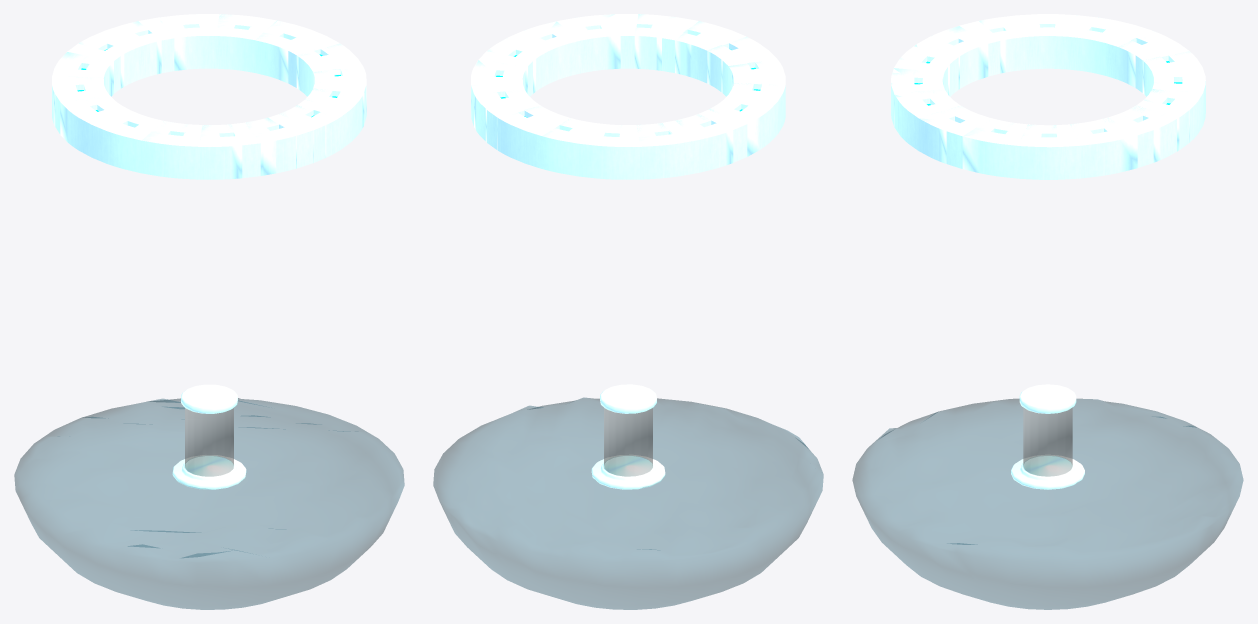
Rendered from rings container.glb.
The picture shows the model from 3 angles, left to right: view 1: azimuth 30°, elevation 25°; view 2: azimuth 150°, elevation 25°; view 3: azimuth 270°, elevation 25°; orthographic projection.
Visible parts, largest first — view 1: Circle, ring 3.001, ring 3, ring 3.002, chamber; view 2: Circle, ring 3.001, ring 3, ring 3.002, chamber; view 3: Circle, ring 3.002, ring 3, ring 3.001, chamber.
Boxes of the visible parts, bbox=[...] form: Circle: bbox=[14, 398, 404, 609]; ring 3.001: bbox=[52, 14, 366, 179]; ring 3: bbox=[52, 14, 366, 178]; ring 3.002: bbox=[52, 14, 366, 178]; chamber: bbox=[172, 384, 246, 489]; Circle: bbox=[433, 397, 823, 609]; ring 3.001: bbox=[471, 14, 785, 179]; ring 3: bbox=[471, 14, 785, 179]; ring 3.002: bbox=[471, 14, 784, 173]; chamber: bbox=[591, 384, 665, 489]; Circle: bbox=[852, 399, 1243, 609]; ring 3.002: bbox=[891, 14, 1205, 179]; ring 3: bbox=[891, 14, 1205, 168]; ring 3.001: bbox=[891, 14, 1205, 146]; chamber: bbox=[1011, 384, 1084, 489].
Bounding box in the file's own units: 2.01 × 2.85 × 2.01.
Materials: 4 (1 with a texture image).
